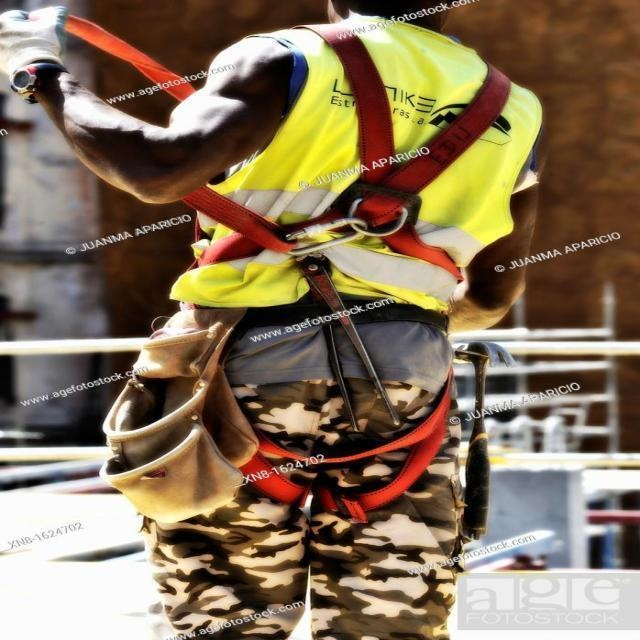Arnes_seguridad: (199, 14, 523, 511)
